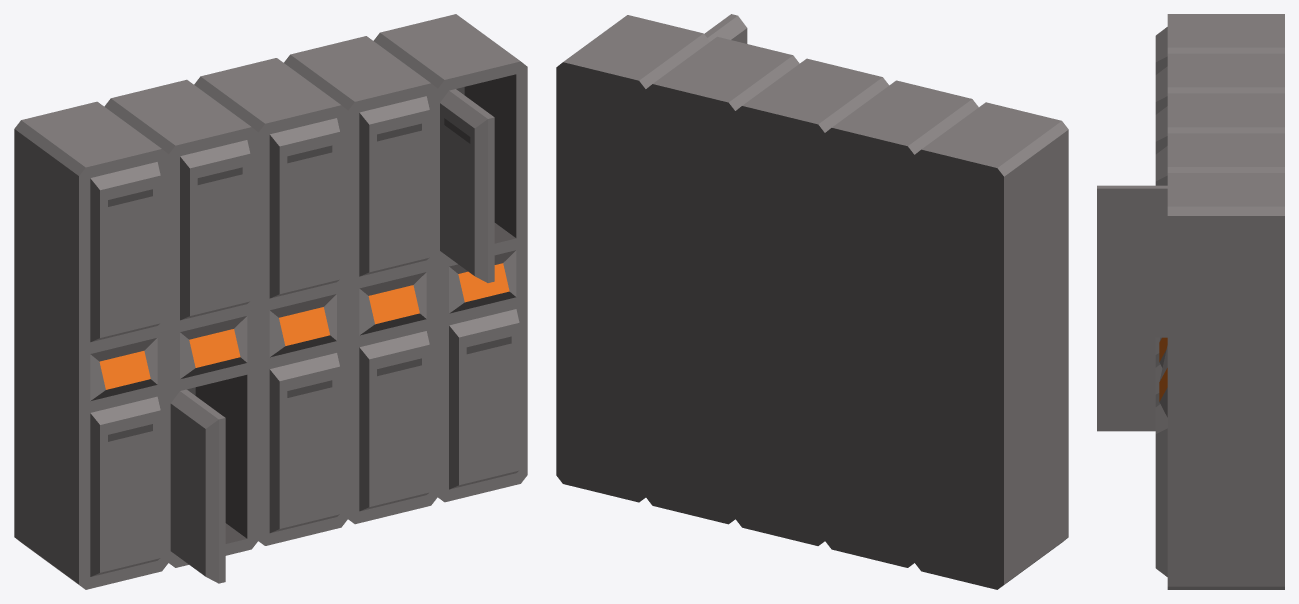
The model's file is scifi_scifi-lockers.fbx.
3 views of the same model, side by side, from view 1: azimuth 30°, elevation 25°; view 2: azimuth 150°, elevation 25°; view 3: azimuth 270°, elevation 25° (orthographic). The views are drawn at different scales.
Visible parts, largest first — view 1: scifi_scifi_lockers; view 2: scifi_scifi_lockers; view 3: scifi_scifi_lockers.
Part boxes in pixels (left/top/right/bottom): scifi_scifi_lockers: left=14, top=14, right=527, bottom=589; scifi_scifi_lockers: left=556, top=14, right=1068, bottom=589; scifi_scifi_lockers: left=1097, top=14, right=1284, bottom=589.
Size of the model in its own units: 200 by 180 by 80.
